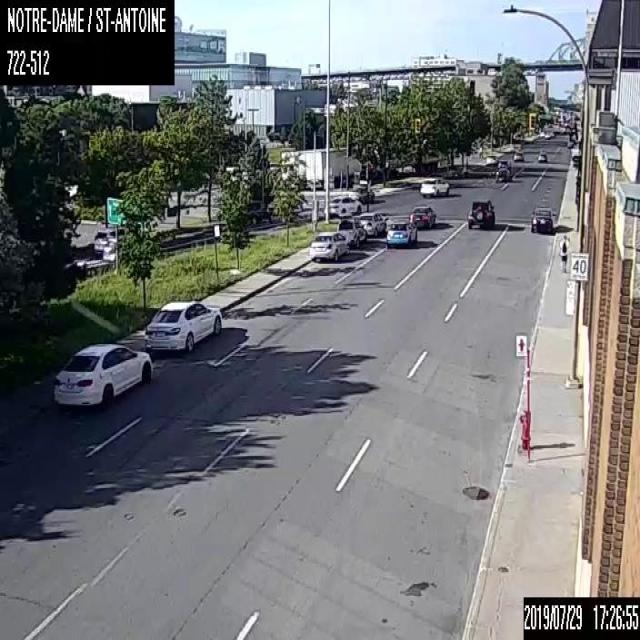pedestrian: (558, 232, 567, 271)
vehicle: (52, 342, 152, 409), (144, 298, 222, 352), (309, 231, 349, 261), (336, 217, 367, 246), (385, 219, 417, 247), (467, 199, 494, 228), (529, 204, 556, 232), (326, 195, 361, 216), (357, 210, 387, 233), (94, 225, 117, 253), (419, 175, 449, 196), (409, 204, 436, 227), (494, 152, 514, 181), (103, 236, 117, 260), (537, 149, 546, 161), (513, 150, 523, 160)
